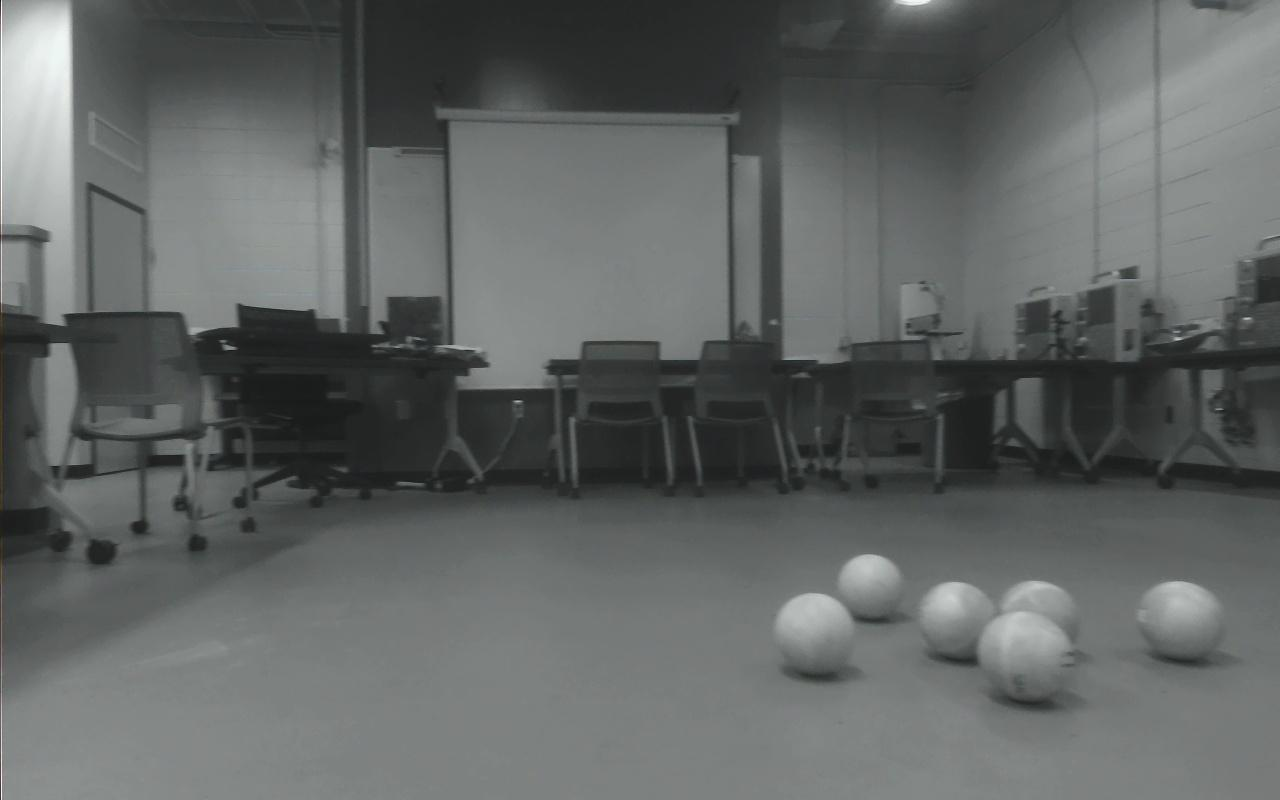Fuel: (979, 611, 1075, 704), (1137, 580, 1224, 663), (773, 593, 854, 678), (1000, 580, 1082, 660), (918, 581, 995, 661), (837, 554, 904, 621)
